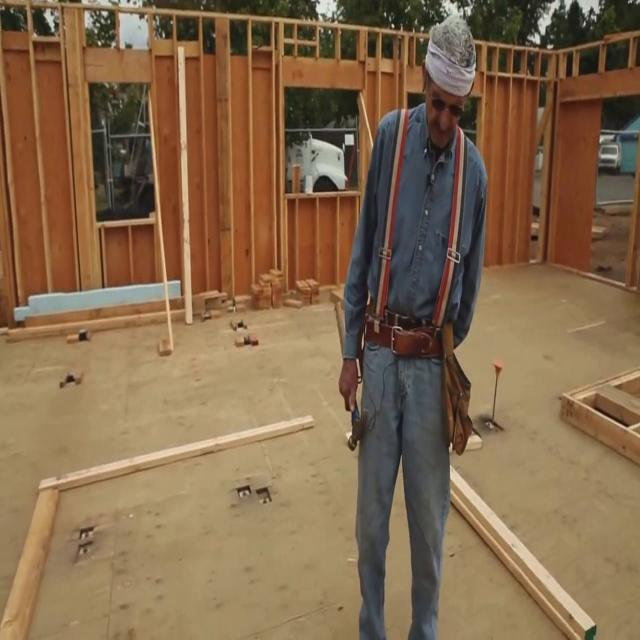hammer: (335, 302, 368, 451)
